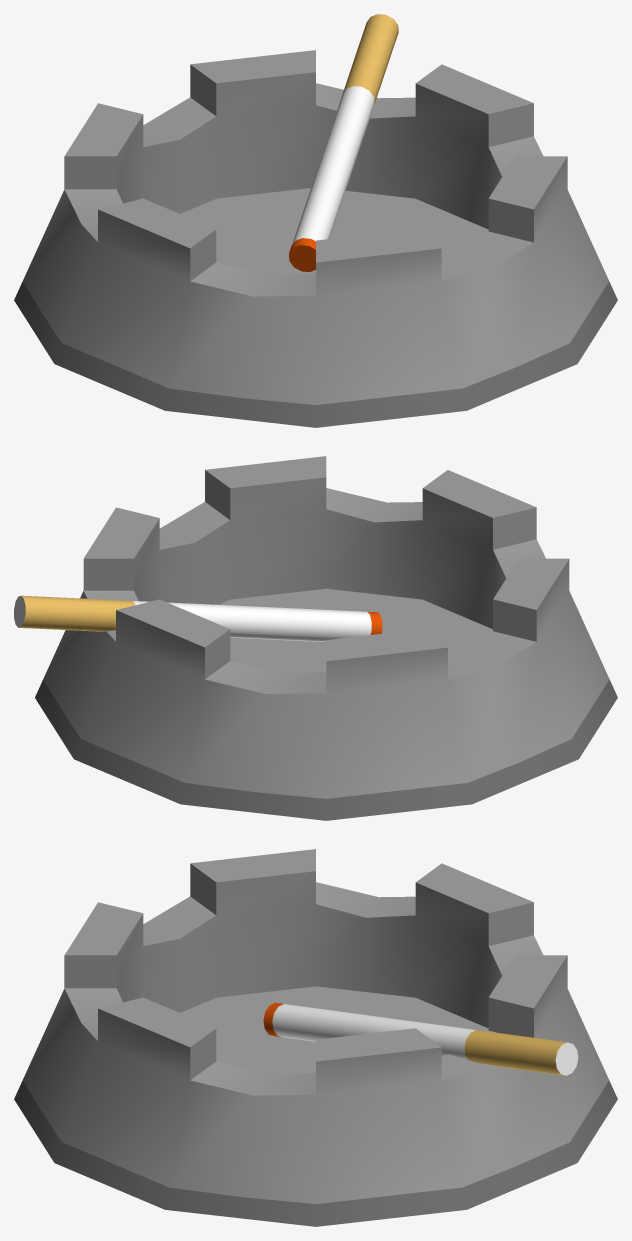
The model's file is pepeljara.fbx.
3 renders of one model, top to bottom at view 1: azimuth 30°, elevation 25°; view 2: azimuth 150°, elevation 25°; view 3: azimuth 270°, elevation 25°, orthographic. The views are drawn at different scales.
Parts seen in each view (by area): view 1: Cylinder; view 2: Cylinder; view 3: Cylinder.
Boxes of the visible parts, x1,y1,x2,y2 form: Cylinder: [14, 14, 617, 427]; Cylinder: [14, 456, 617, 820]; Cylinder: [14, 849, 617, 1226].
Size of the model in its own units: 200 by 54.23 by 200.
